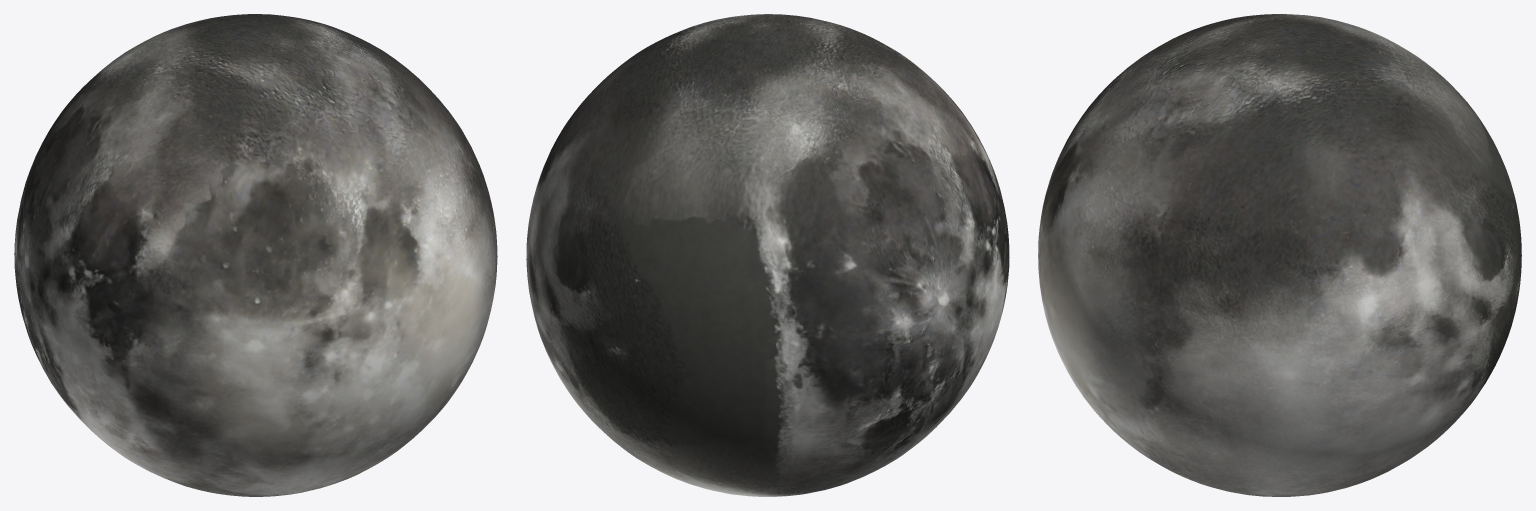
Rendered from moon.glb.
3 renders of one model, left to right at view 1: azimuth 30°, elevation 25°; view 2: azimuth 150°, elevation 25°; view 3: azimuth 270°, elevation 25°, orthographic.
Size of the model in its own units: 2 by 2 by 2.
Materials: 1 (1 with a texture image).
